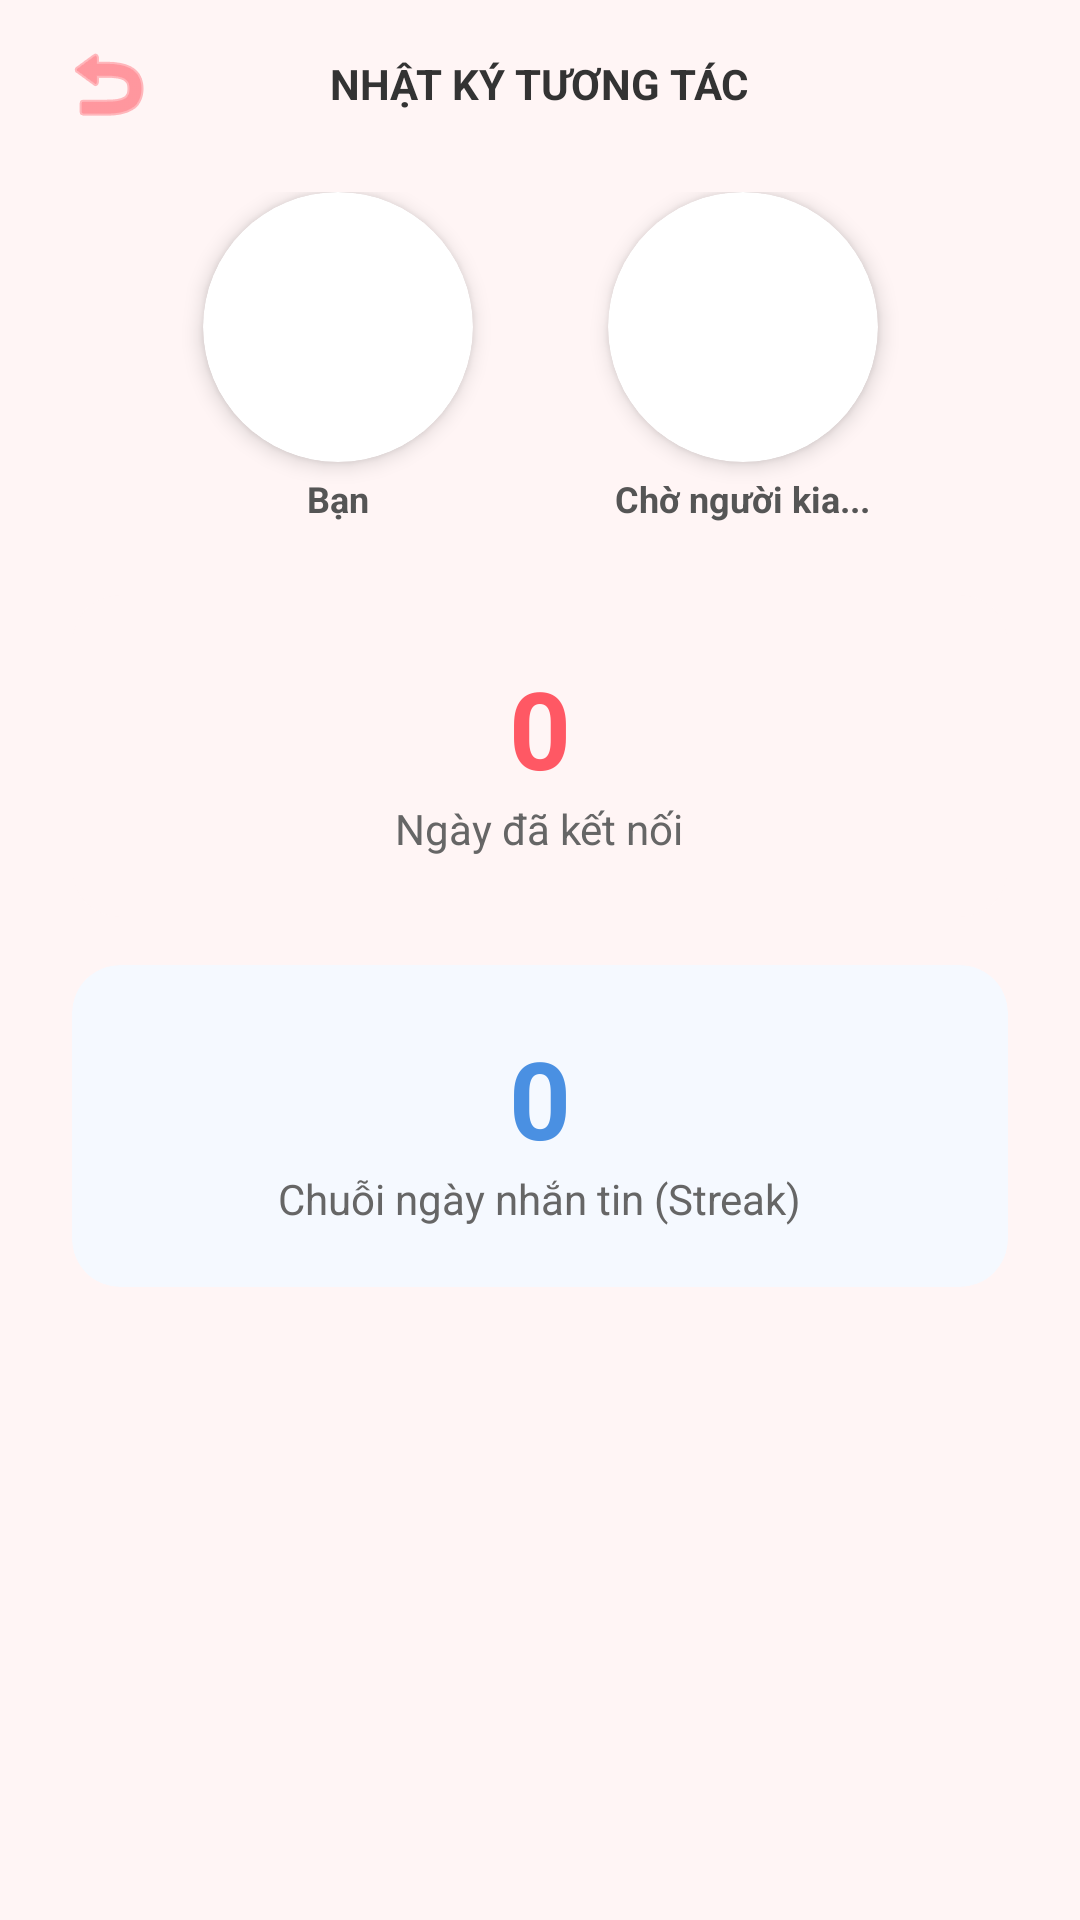

Where icons sit on this 1080 × 1920 app screen, as (x1, y1, x2, y2):
revert: (75, 54, 144, 116)
